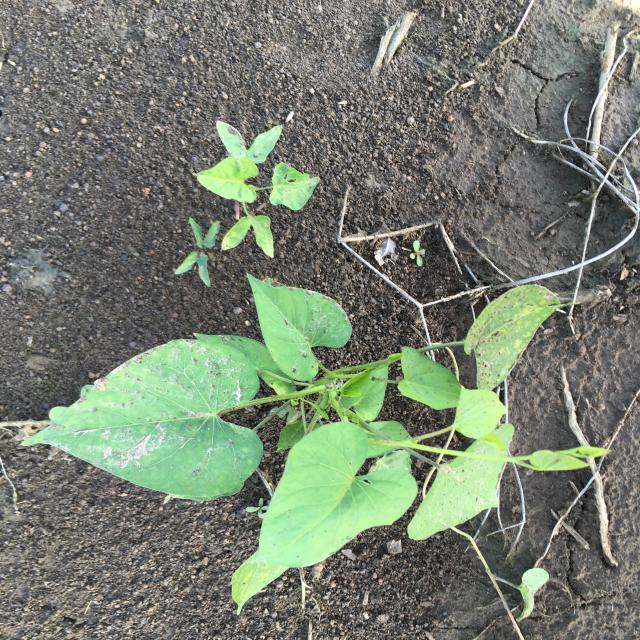MorningGlory: (21, 274, 612, 616), (196, 121, 320, 258), (174, 218, 220, 286)
